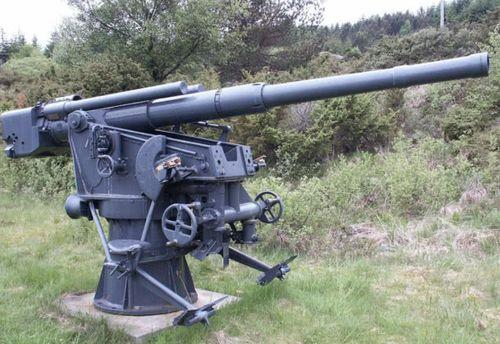MIL_SPG: (0, 53, 489, 325)
